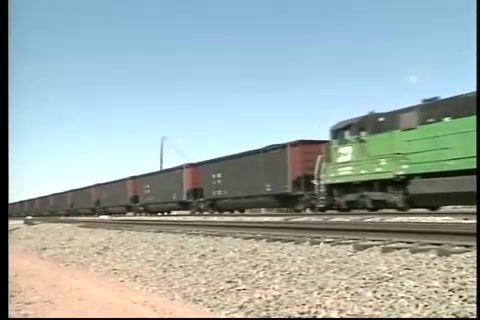train: (10, 91, 478, 220)
